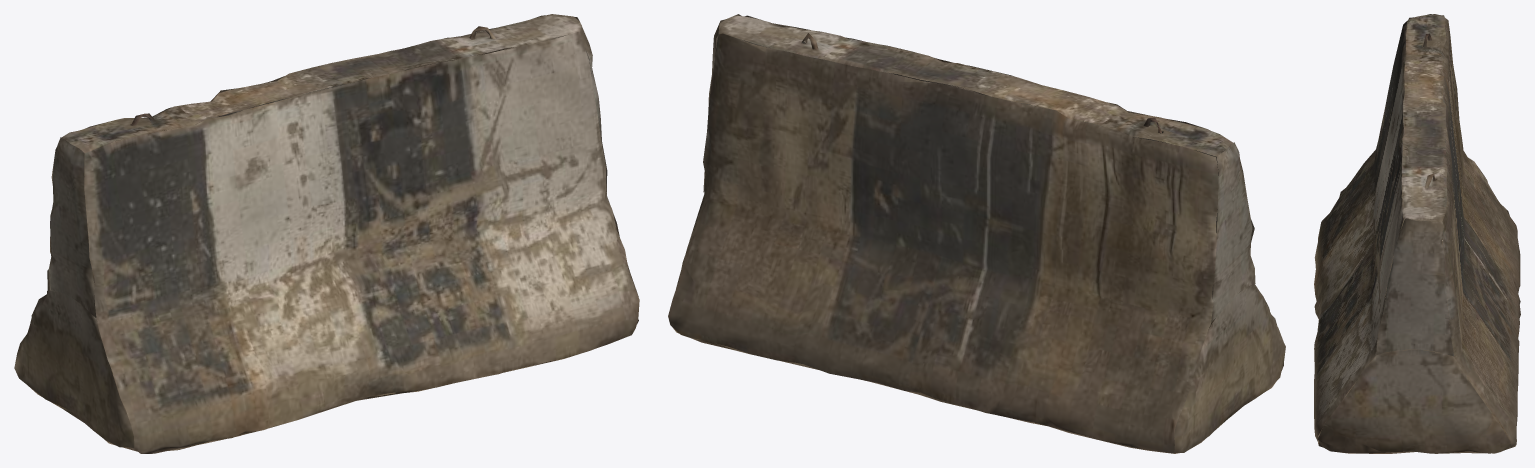
Rendered from ph_concrete_road_barrier.glb.
The picture shows the model from 3 angles, left to right: view 1: azimuth 30°, elevation 25°; view 2: azimuth 150°, elevation 25°; view 3: azimuth 270°, elevation 25°; orthographic projection. The views are drawn at different scales.
Visible parts, largest first — view 1: concrete_road_barrier; view 2: concrete_road_barrier; view 3: concrete_road_barrier.
Part boxes in pixels (<box>): concrete_road_barrier: <box>14,14,639,453</box>; concrete_road_barrier: <box>668,14,1285,453</box>; concrete_road_barrier: <box>1314,14,1520,453</box>.
Bounding box in the file's own units: 1.55 × 0.8295 × 0.6335.
Materials: 1 (1 with a texture image).
